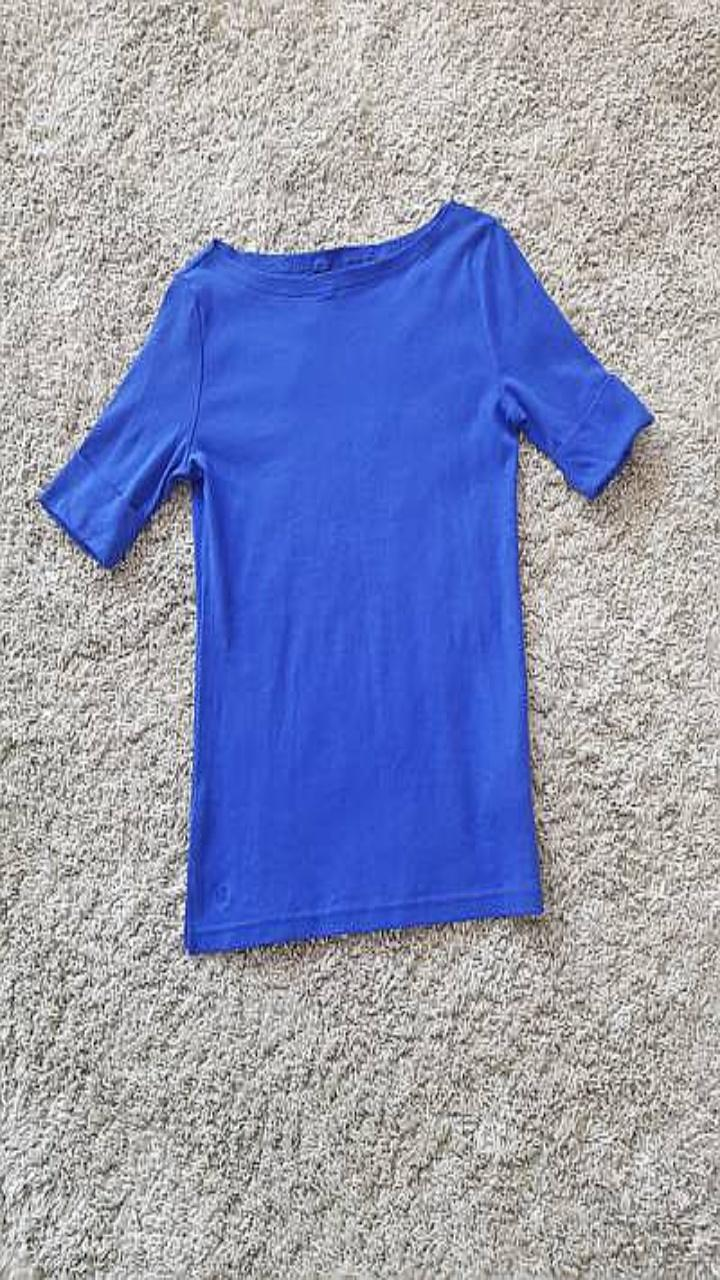T-Shirt: (36, 200, 653, 952)
